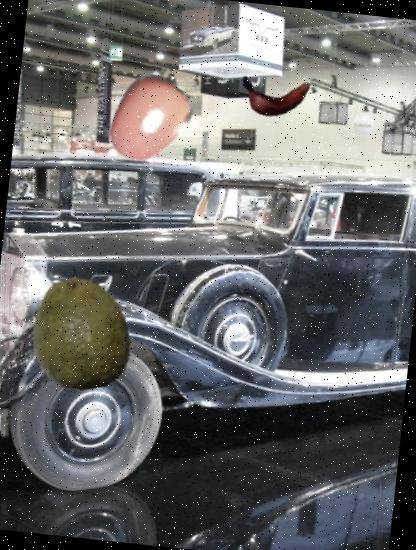Banana: (238, 58, 314, 134)
Guava: (16, 270, 141, 396)
Kaki: (96, 66, 202, 172)
